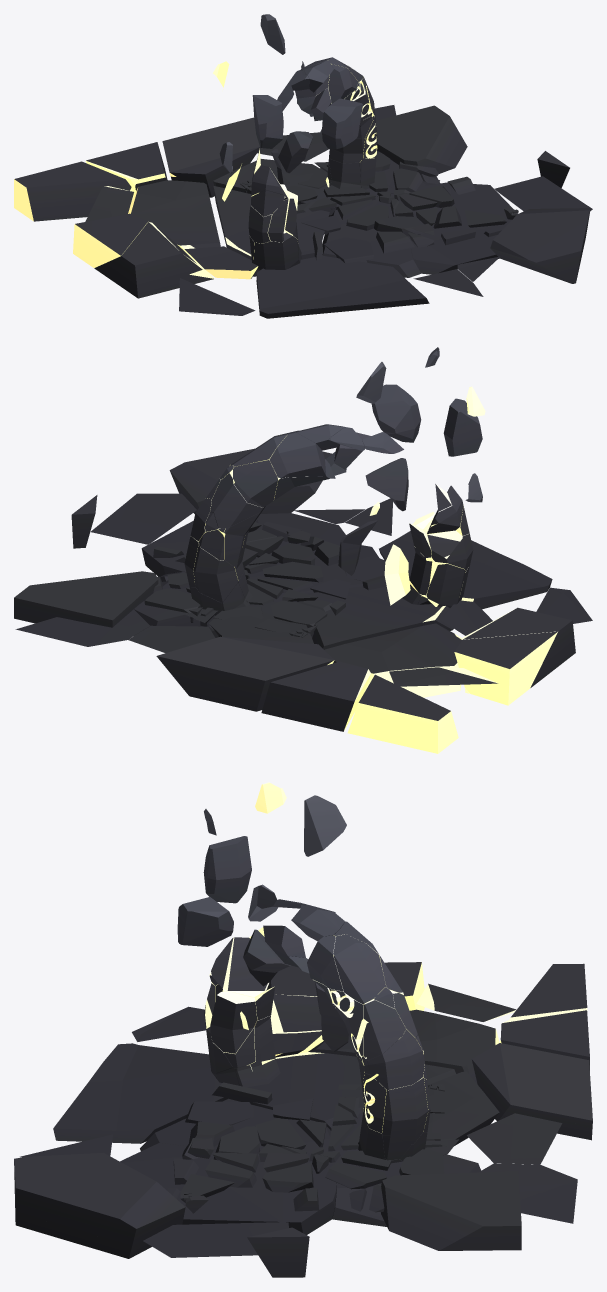
File: Arch.fbx
3 renders of one model, top to bottom at view 1: azimuth 30°, elevation 25°; view 2: azimuth 150°, elevation 25°; view 3: azimuth 270°, elevation 25°, orthographic. The views are drawn at different scales.
Parts seen in each view (by area): view 1: Portal_Destruido1; view 2: Portal_Destruido1; view 3: Portal_Destruido1.
Part boxes in pixels (x1=…): Portal_Destruido1: x1=14, y1=14, x2=592, y2=318; Portal_Destruido1: x1=14, y1=347, x2=592, y2=753; Portal_Destruido1: x1=14, y1=782, x2=592, y2=1277.
Bounding box in the file's own units: 556 × 309 × 494.
